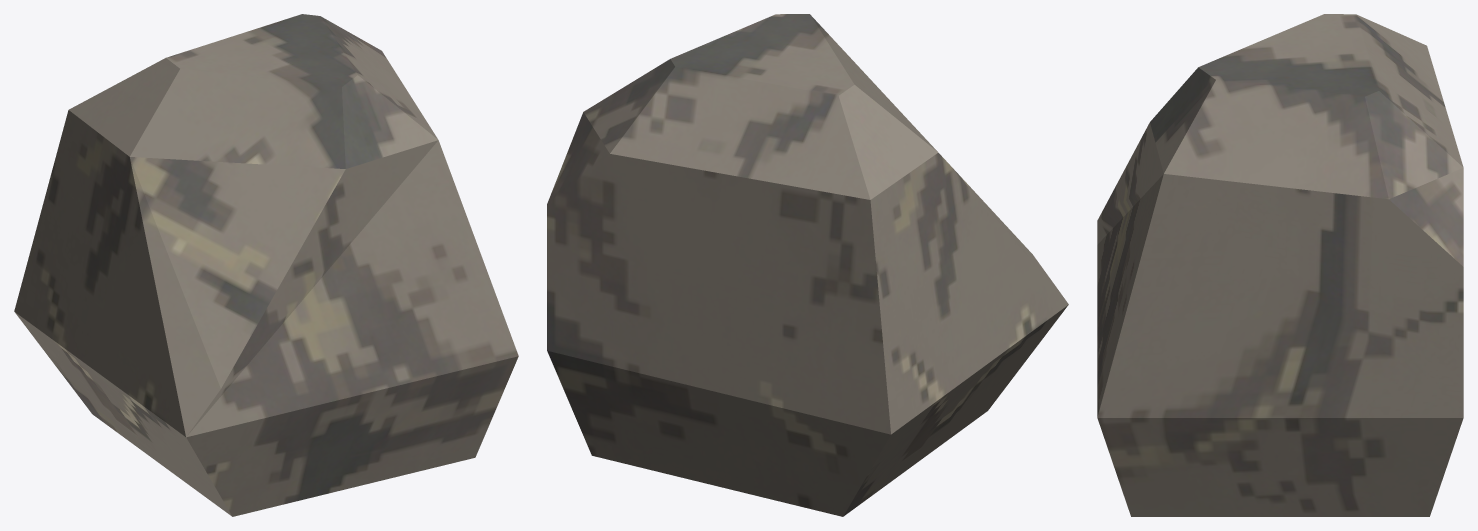
File: Stones_Obstacle_1.fbx
3 views of the same model, side by side, from view 1: azimuth 30°, elevation 25°; view 2: azimuth 150°, elevation 25°; view 3: azimuth 270°, elevation 25° (orthographic). The views are drawn at different scales.
Parts seen in each view (by area): view 1: Cube.003; view 2: Cube.003; view 3: Cube.003.
Part boxes in pixels (bbox=[...]): Cube.003: bbox=[14, 14, 518, 516]; Cube.003: bbox=[547, 14, 1068, 516]; Cube.003: bbox=[1097, 14, 1463, 516].
Size of the model in its own units: 60.07 by 64.26 by 53.77.
